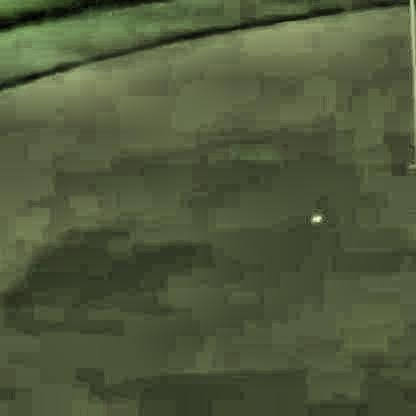golfball: (308, 213, 319, 223)
